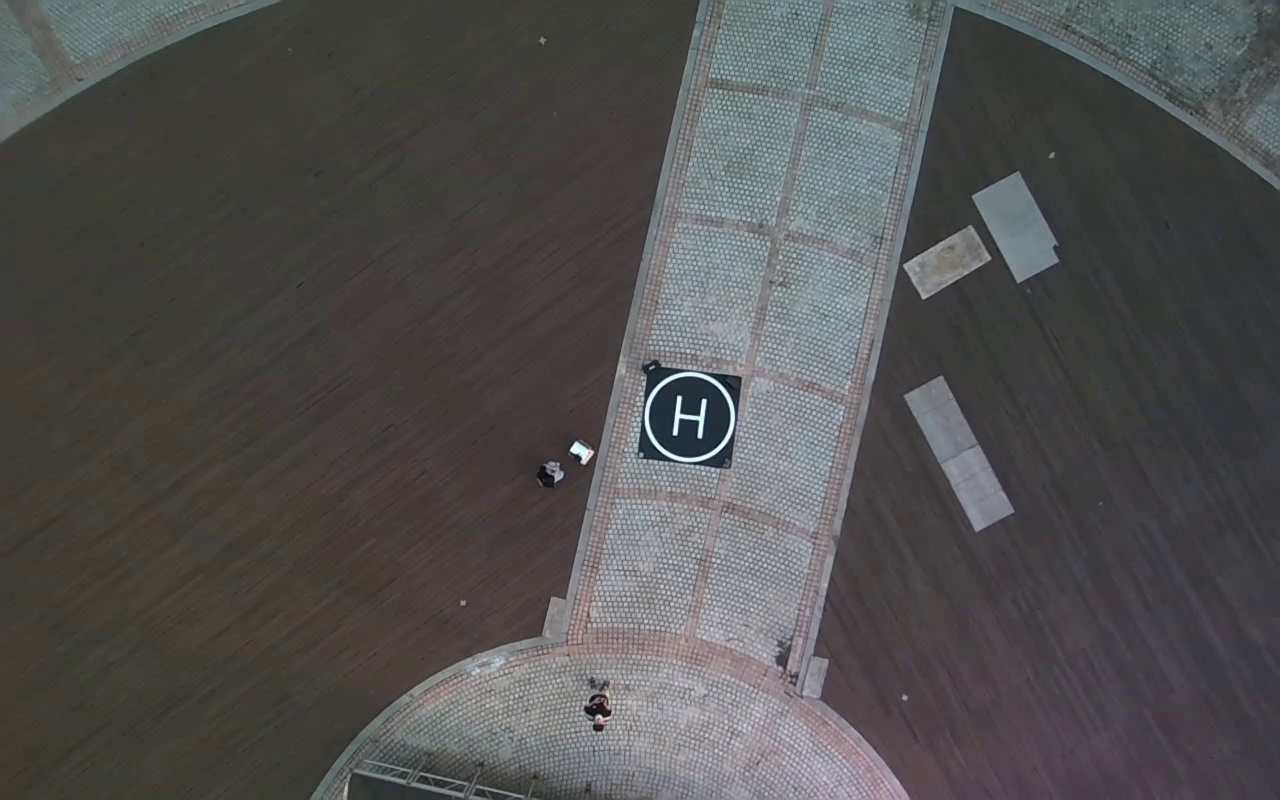H: (670, 394, 708, 438)
heliport: (643, 372, 736, 461)
